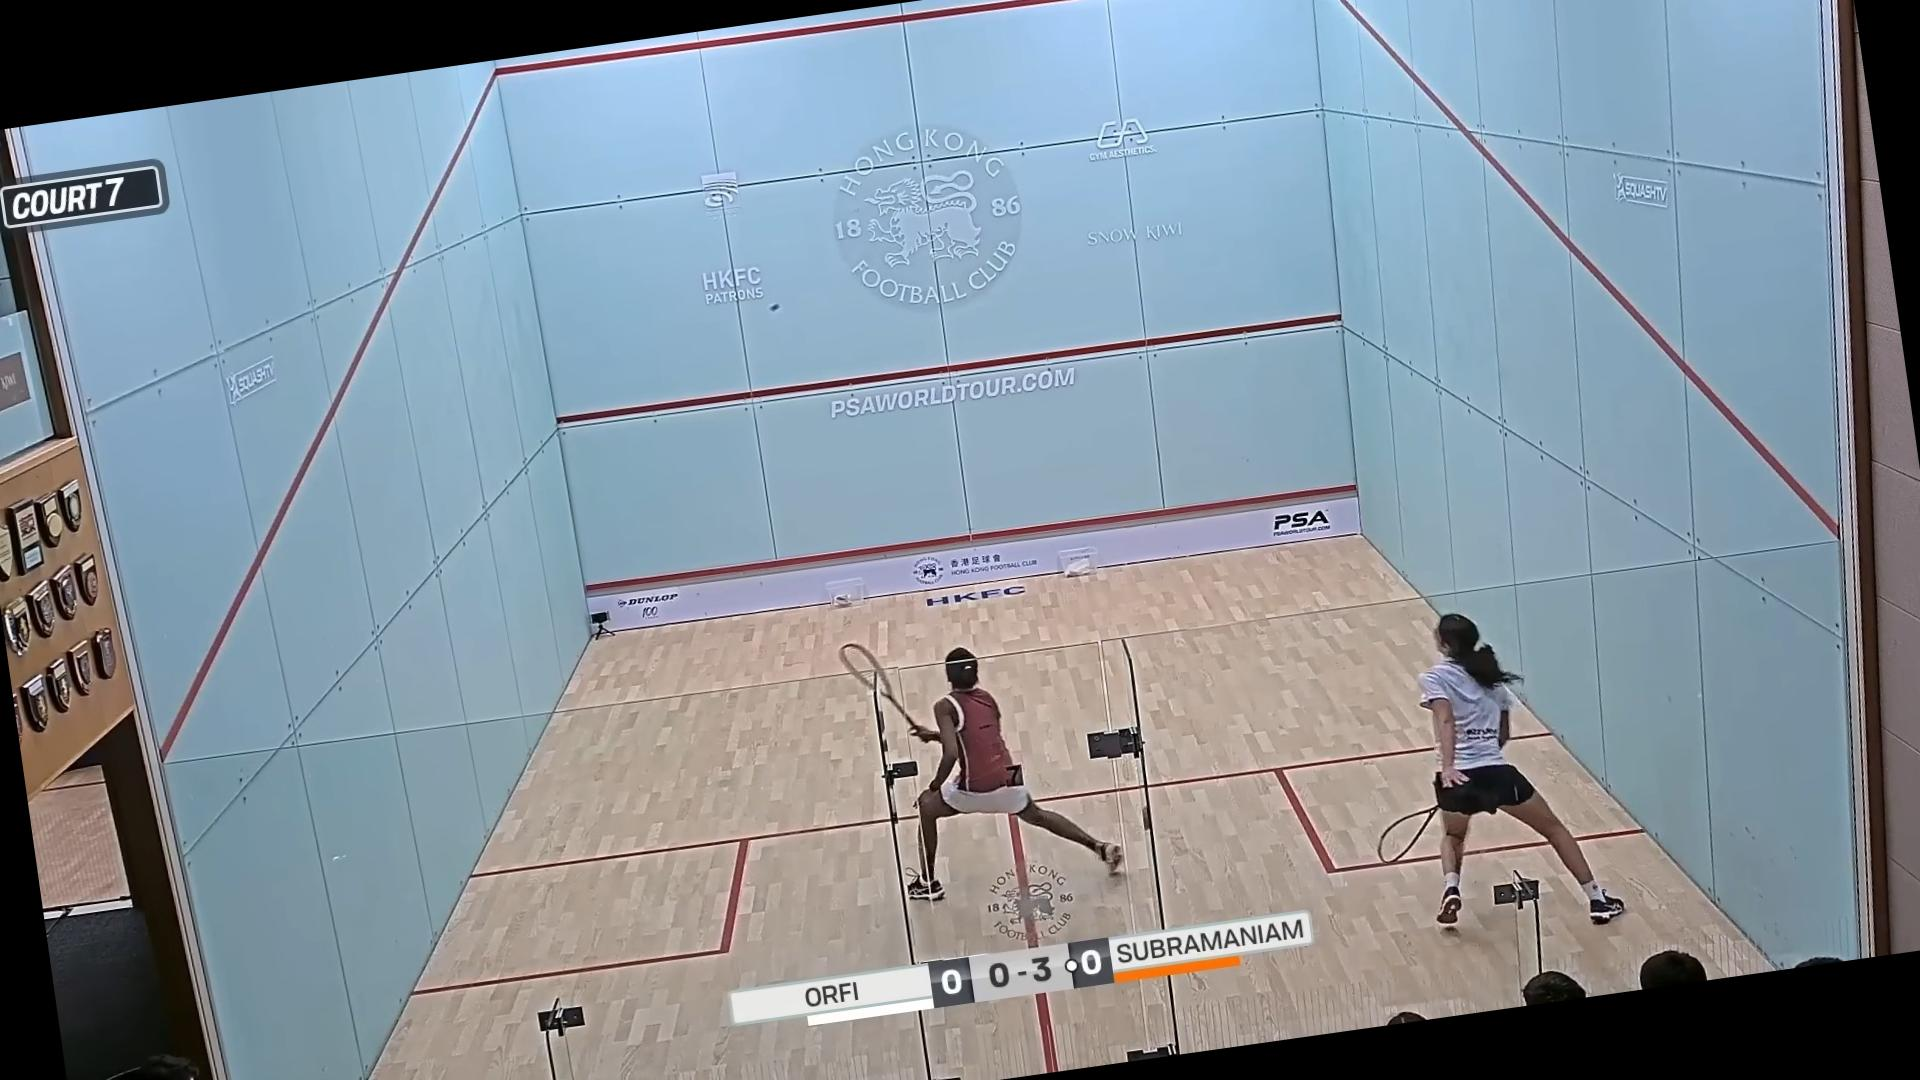Squash-Ball: (760, 298, 789, 324)
